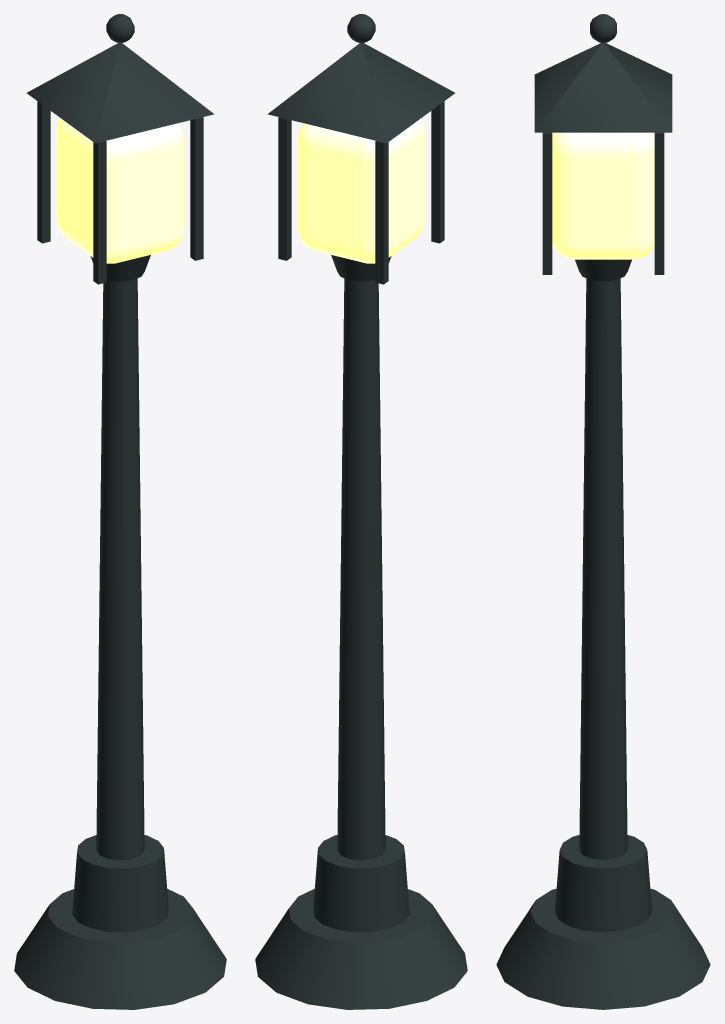
File: lantern-lamppost.glb
3 views of the same model, side by side, from view 1: azimuth 30°, elevation 25°; view 2: azimuth 150°, elevation 25°; view 3: azimuth 270°, elevation 25° (orthographic).
Bounding box in the file's own units: 0.44 × 2.15 × 0.44.
